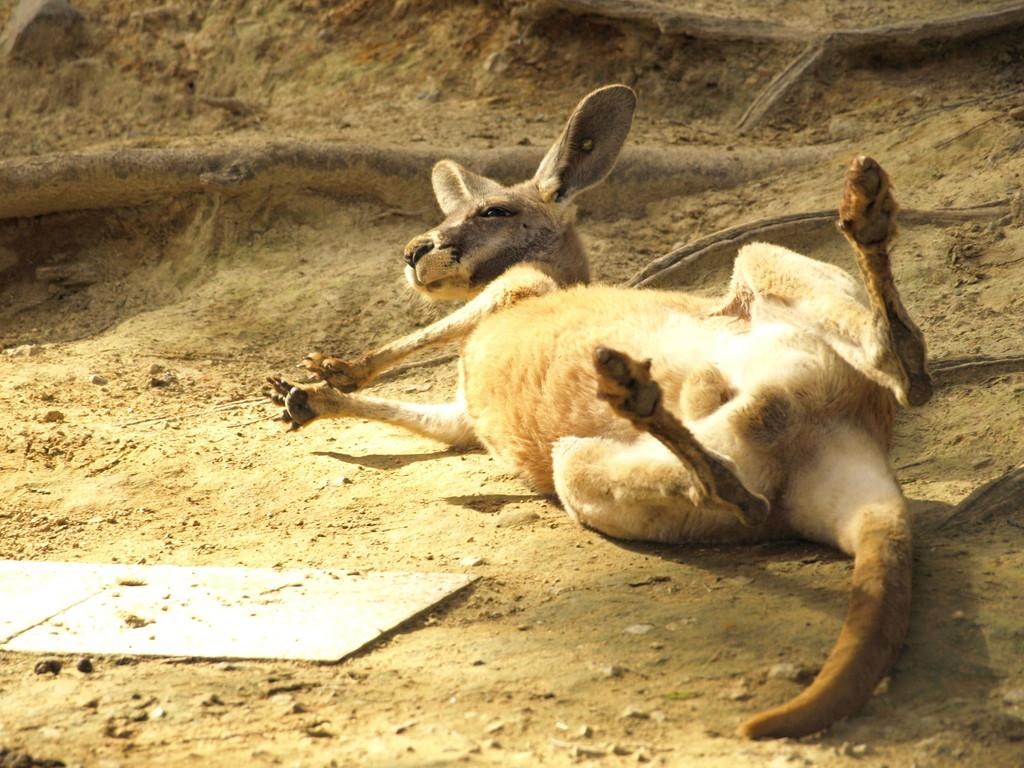kangaroo: (268, 78, 928, 744)
